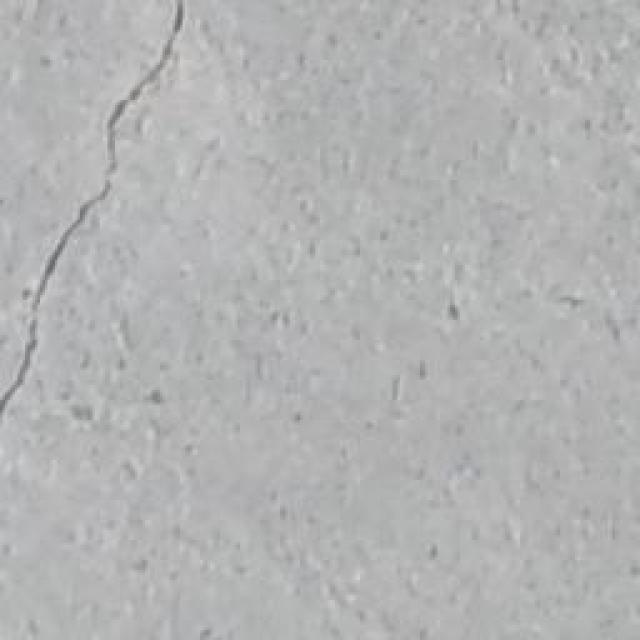concrete-crack: (0, 0, 200, 422)
